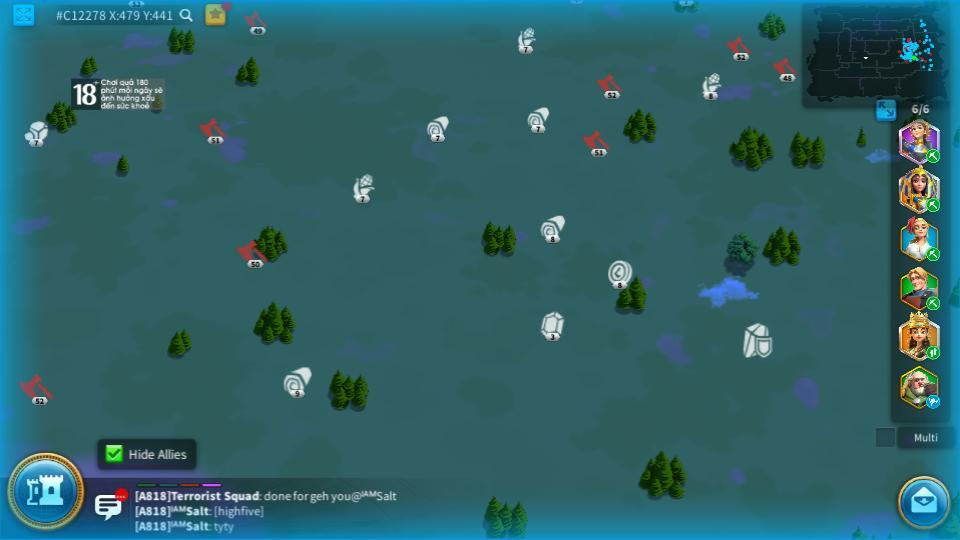gem-z-out: (540, 311, 564, 339)
march_farming: (924, 197, 939, 212), (924, 149, 939, 162), (924, 248, 939, 261), (925, 297, 941, 308)
march_idle: (925, 396, 942, 408)
march_marching: (925, 345, 941, 359)
